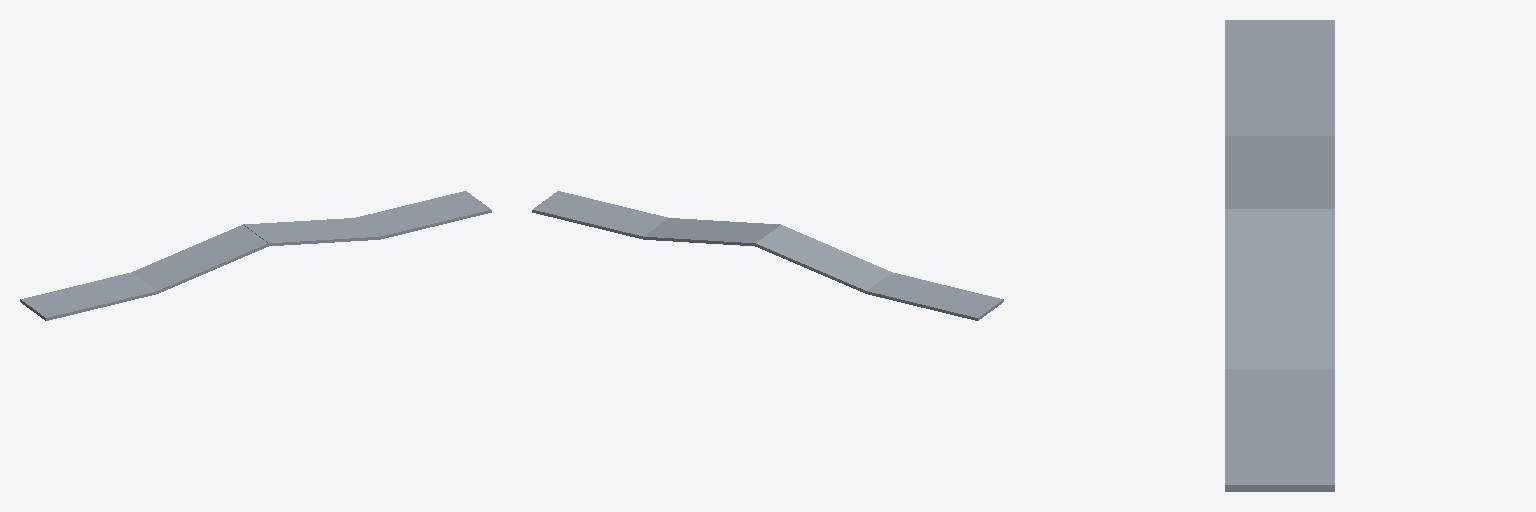
The robot description file, URDF, robot "env_5":
<?xml version="1.0" encoding="utf-8"?>
<robot name="env_5">
  <link name="base_link">
    <inertial>
      <origin xyz="1.0 0.1 0.018791" rpy="0 0 0" />
      <mass value="1.0" />
      <inertia ixx="0.0033474167" ixy="0" ixz="0" iyy="0.3333474167" iyz="0" izz="0.3366666667" />
    </inertial>

    <!-- env5: mixed validation ledge, flat -> 10 deg uphill -> 10 deg downhill -> flat -->
    <visual>
      <origin xyz="0.25 0.1 -0.006500" rpy="0 0 0" />
      <geometry>
        <box size="0.5 0.2 0.013" />
      </geometry>
      <material name="ledge_gray">
        <color rgba="0.65 0.68 0.72 1" />
      </material>
    </visual>
    <collision>
      <origin xyz="0.25 0.1 -0.006500" rpy="0 0 0" />
      <geometry>
        <box size="0.5 0.2 0.013" />
      </geometry>
    </collision>

    <visual>
      <origin xyz="0.75 0.1 0.037582" rpy="0 -0.174533 0" />
      <geometry>
        <box size="0.507713 0.2 0.013" />
      </geometry>
      <material name="ledge_gray">
        <color rgba="0.65 0.68 0.72 1" />
      </material>
    </visual>
    <collision>
      <origin xyz="0.75 0.1 0.037582" rpy="0 -0.174533 0" />
      <geometry>
        <box size="0.507713 0.2 0.013" />
      </geometry>
    </collision>

    <visual>
      <origin xyz="1.25 0.1 0.037582" rpy="0 0.174533 0" />
      <geometry>
        <box size="0.507713 0.2 0.013" />
      </geometry>
      <material name="ledge_gray">
        <color rgba="0.65 0.68 0.72 1" />
      </material>
    </visual>
    <collision>
      <origin xyz="1.25 0.1 0.037582" rpy="0 0.174533 0" />
      <geometry>
        <box size="0.507713 0.2 0.013" />
      </geometry>
    </collision>

    <visual>
      <origin xyz="1.75 0.1 -0.006500" rpy="0 0 0" />
      <geometry>
        <box size="0.5 0.2 0.013" />
      </geometry>
      <material name="ledge_gray">
        <color rgba="0.65 0.68 0.72 1" />
      </material>
    </visual>
    <collision>
      <origin xyz="1.75 0.1 -0.006500" rpy="0 0 0" />
      <geometry>
        <box size="0.5 0.2 0.013" />
      </geometry>
    </collision>
  </link>
</robot>

--- Facts derived from the render (not from the file) ---
3 views of the same robot in one strip: view 1: azimuth 30°, elevation 25°; view 2: azimuth 150°, elevation 25°; view 3: azimuth 270°, elevation 25° (orthographic).
Model env_5 with 1 links and 0 joints (none), rooted at base_link, posed every joint at zero.
Visible links, largest first — view 1: base_link; view 2: base_link; view 3: base_link.
Link boxes in pixels (x1=…): base_link: x1=20, y1=191, x2=491, y2=320; base_link: x1=532, y1=191, x2=1003, y2=320; base_link: x1=1225, y1=20, x2=1334, y2=491.
Size in the robot's own frame: 2 by 0.2 by 0.1011 metres.
Geometry: primitives only (box / cylinder / sphere), no mesh files.
